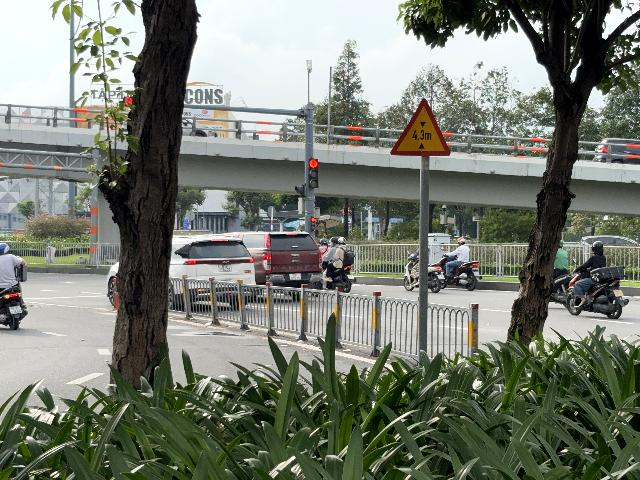chieu-cao-tinh-khong-thuc-te: (390, 97, 450, 155)
